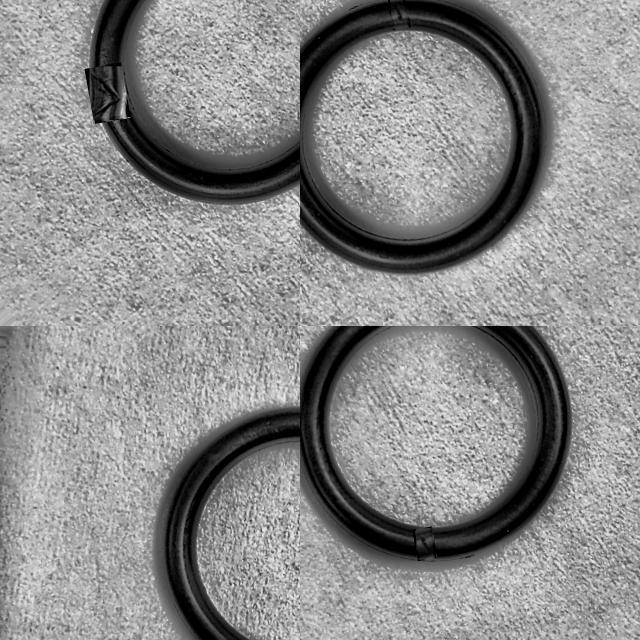切割缺陷: (90, 67, 125, 119), (415, 527, 434, 559), (390, 0, 407, 28)
